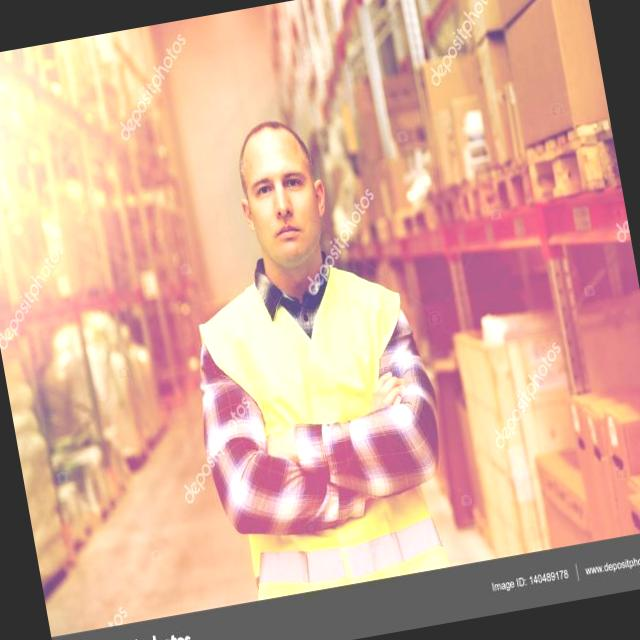helmet: (196, 247, 449, 608)
no-helmet: (215, 109, 344, 272)
